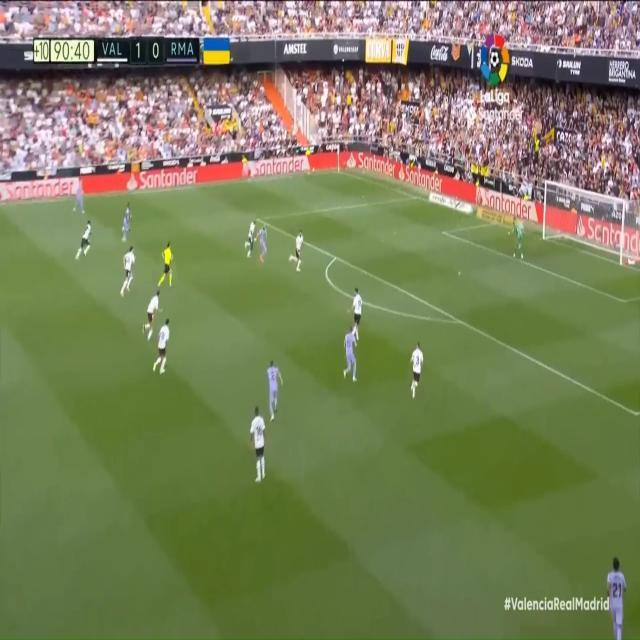goalkeeper: (509, 212, 528, 266)
player: (604, 551, 626, 640), (248, 399, 268, 484), (151, 316, 174, 377), (265, 356, 285, 421), (141, 289, 164, 343), (408, 335, 426, 403), (121, 241, 140, 304), (343, 319, 360, 385), (285, 224, 307, 274), (348, 283, 366, 338), (75, 218, 94, 265), (242, 218, 258, 260), (122, 194, 134, 249), (258, 218, 272, 265), (74, 172, 86, 222)
referee: (155, 236, 176, 294)
